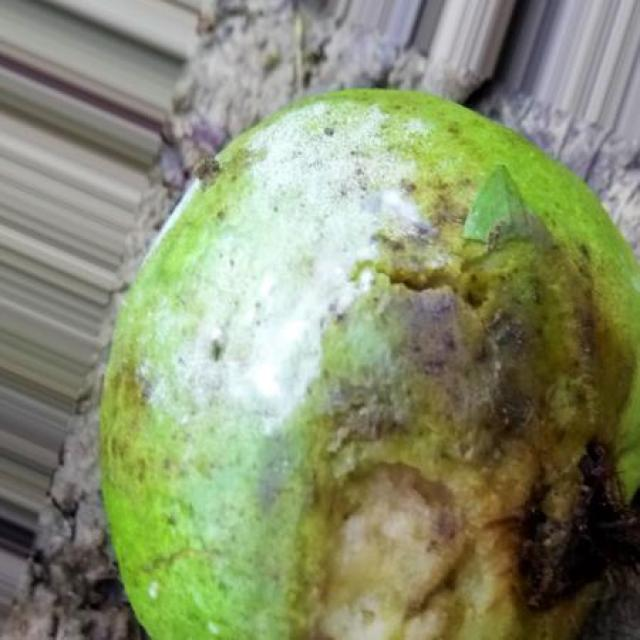Phytopthora: (101, 90, 640, 640)
